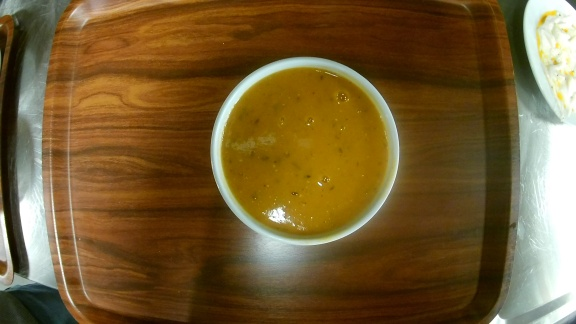ezogelin: (207, 56, 401, 245)
